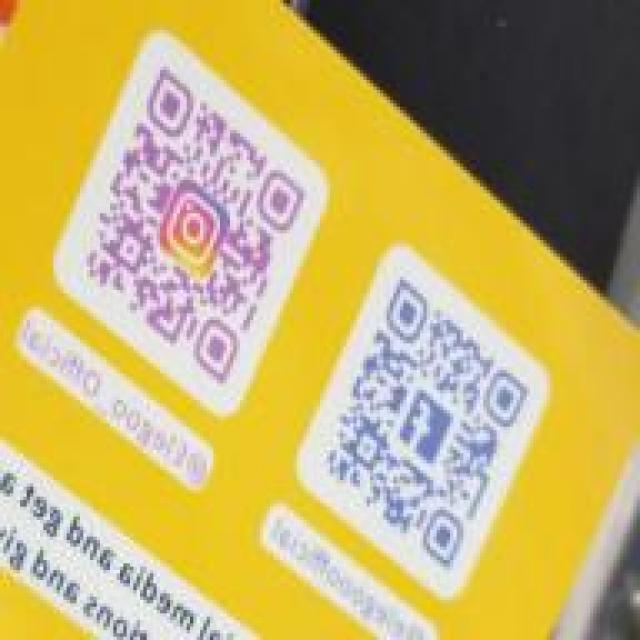QR_CODE: (80, 54, 320, 394), (323, 265, 537, 587)
